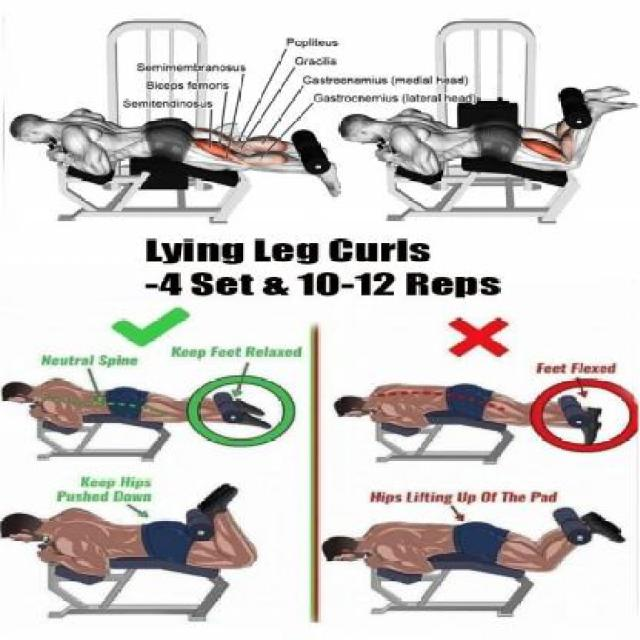reg curl machine: (11, 14, 346, 234), (320, 20, 632, 228), (312, 477, 630, 626), (0, 464, 286, 628)
